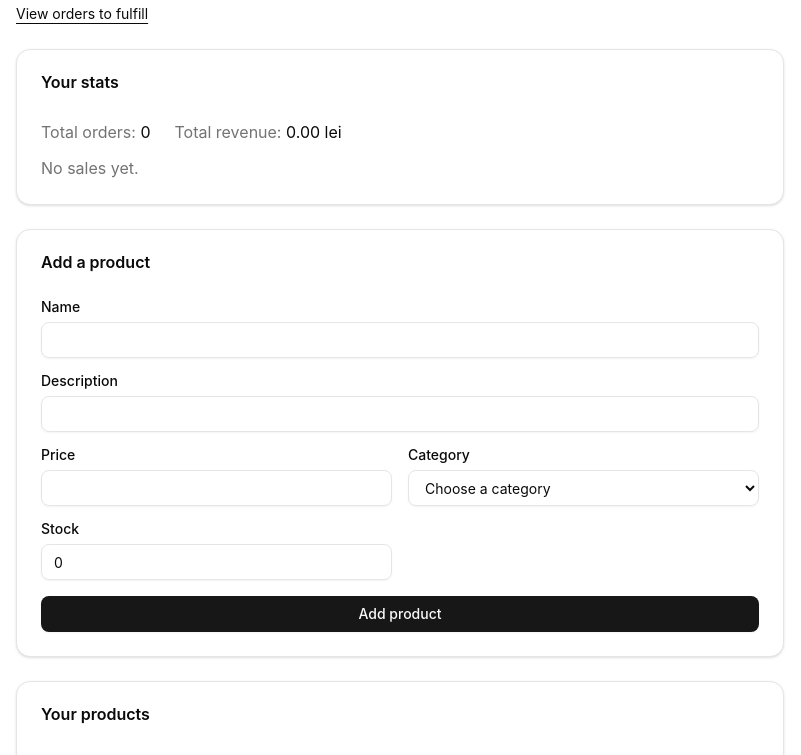
it: SellerDashboardPage › creates a new product from the form
In the field labelled "Name": (400, 340) [41, 322, 759, 358], type "New Gadget"
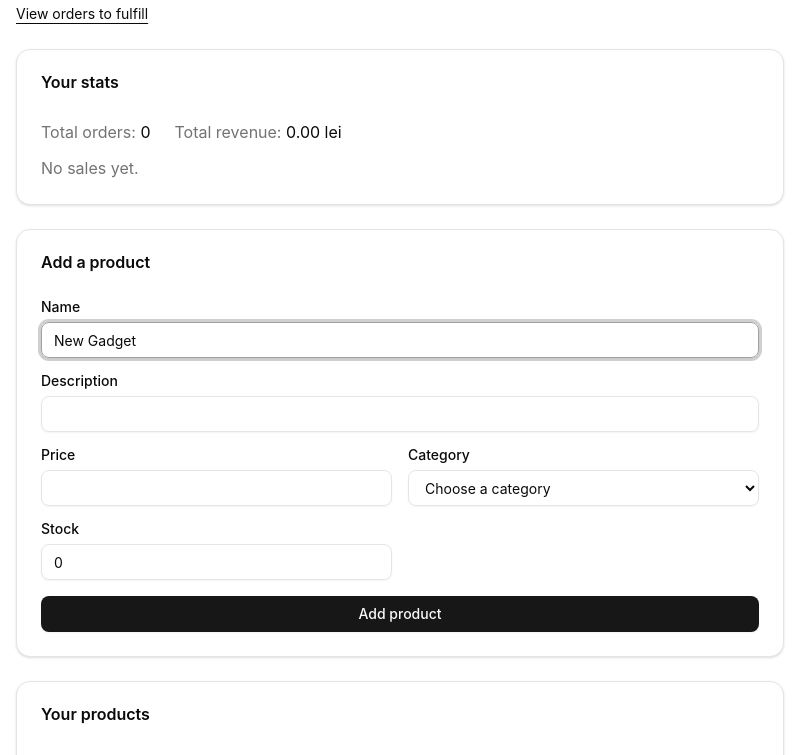
In the field labelled "Description": (400, 414) [41, 396, 759, 432], type "Shiny"
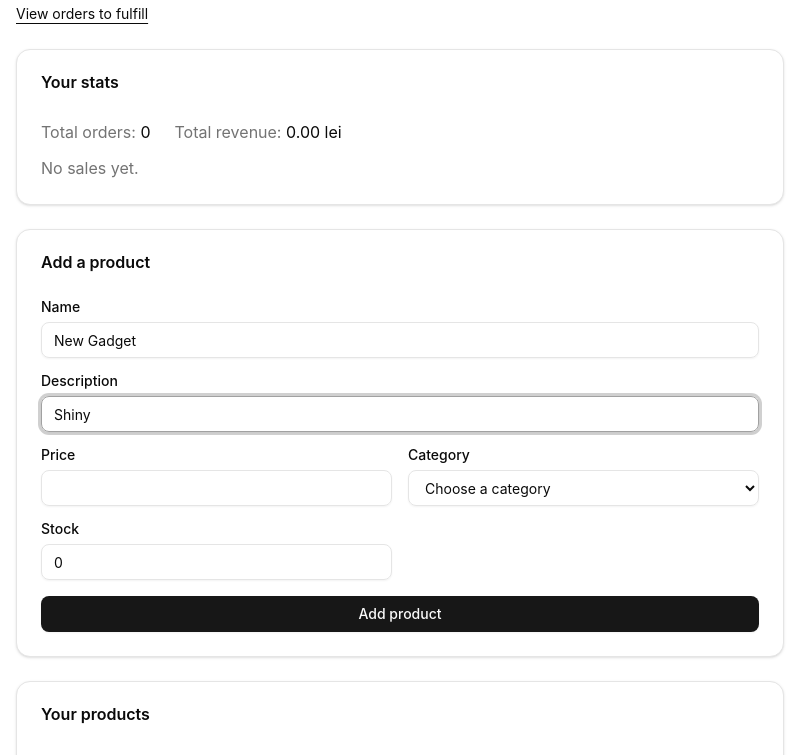
In the field labelled "Price": (216, 488) [41, 470, 392, 506], type "25.00"
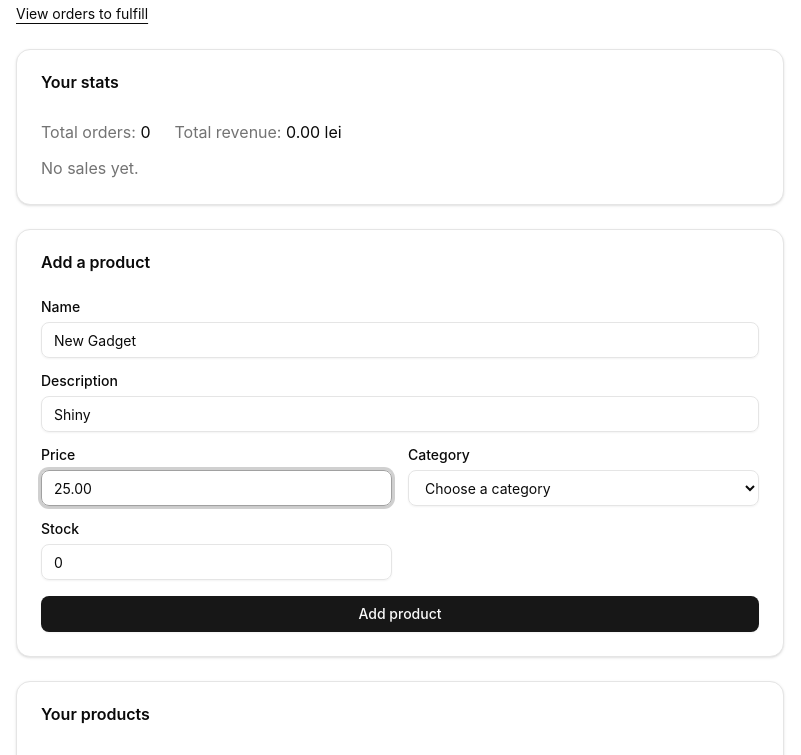
Select "Electronics" in the dropdown labelled "Category": (584, 488) [408, 470, 759, 506]
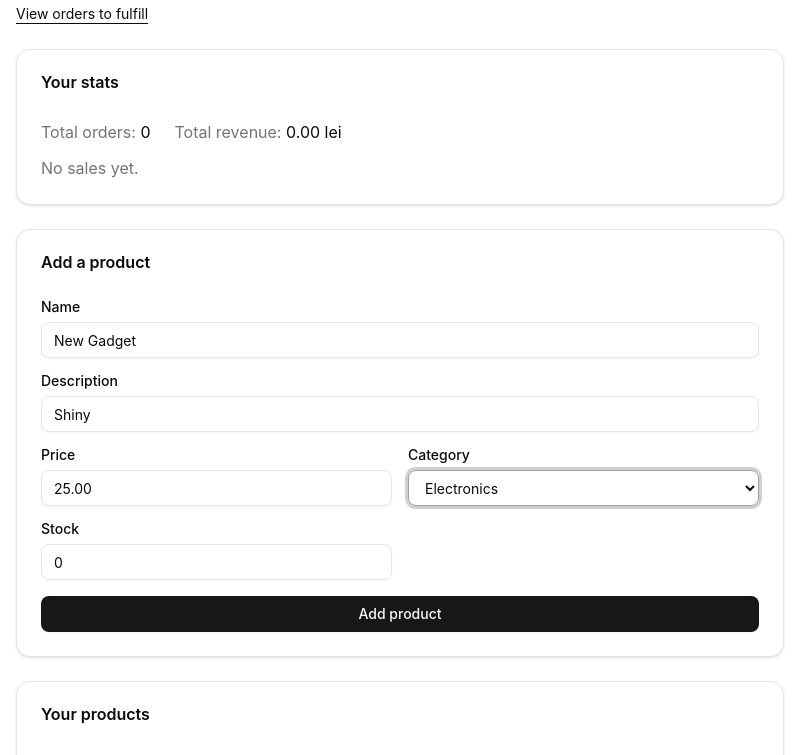
Click the button "Add product": (400, 614) [41, 596, 759, 632]
(page scrolled)
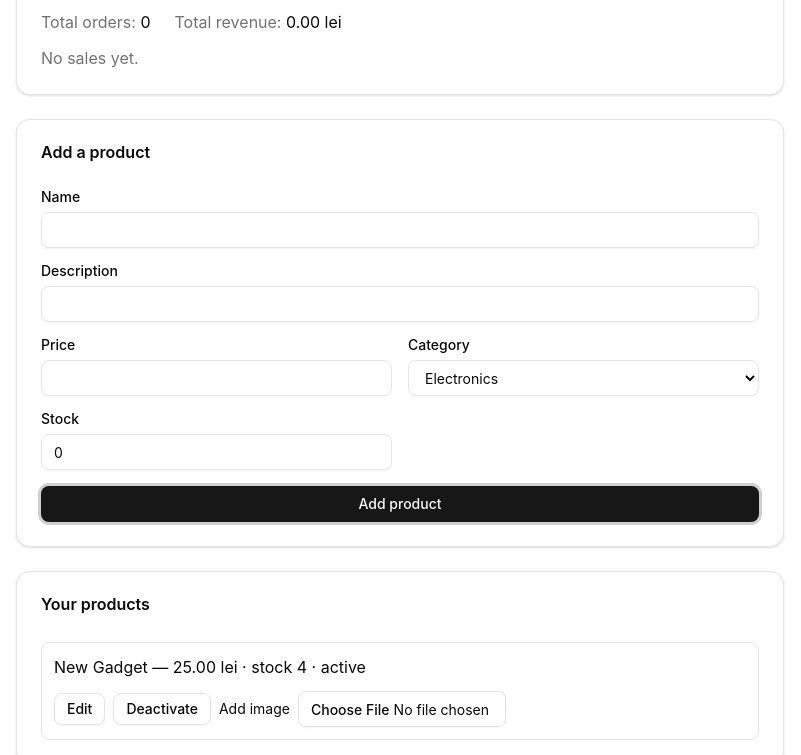
Expected: the text "New Gadget — 25.00 lei · stock 4 · active" is shown, [54, 655, 366, 679]
